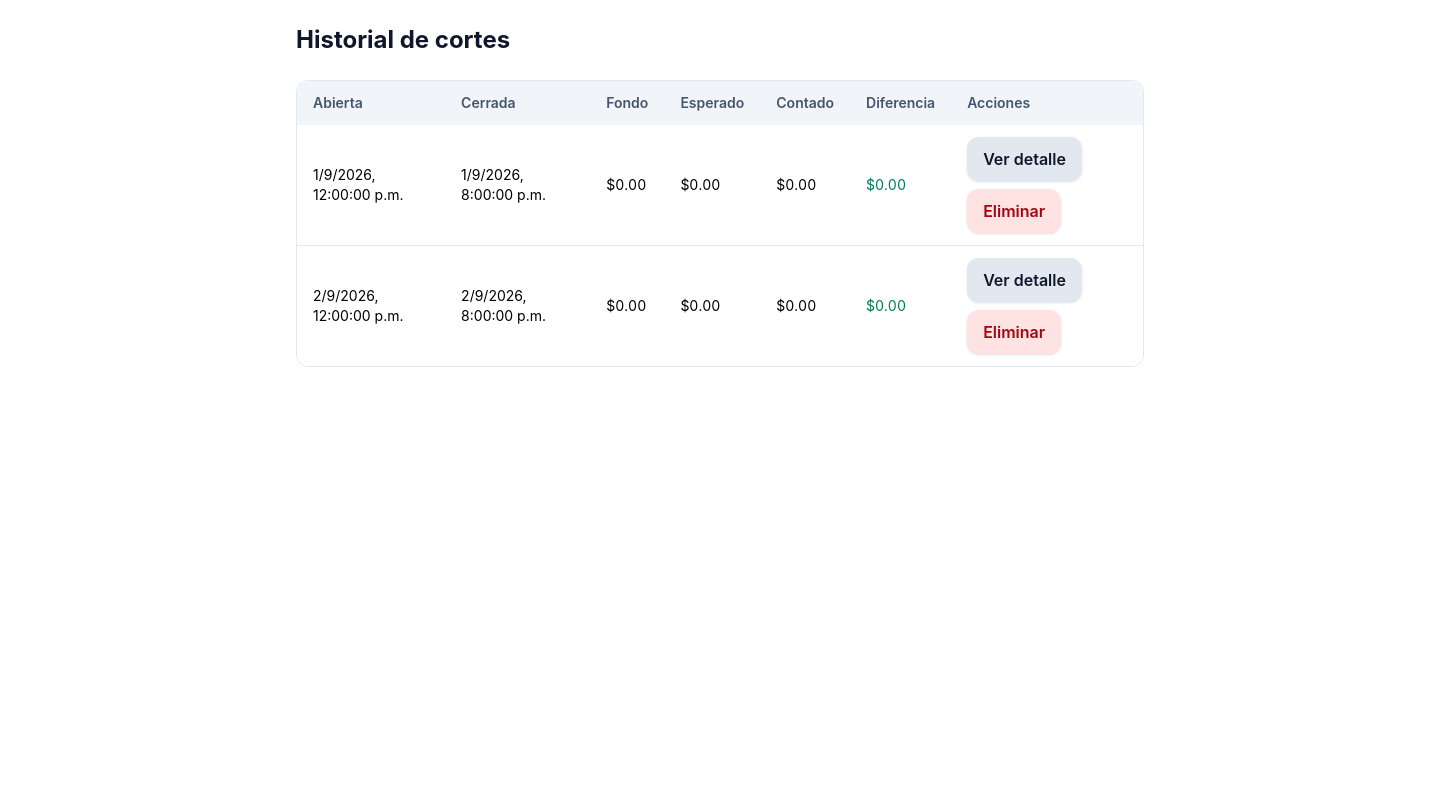
Test: permanent cash history deletion › names the date and consequences; cancellation has no effect
Click the button with aria-label "eliminar corte del" at (1014, 211), box [967,189,1061,233]
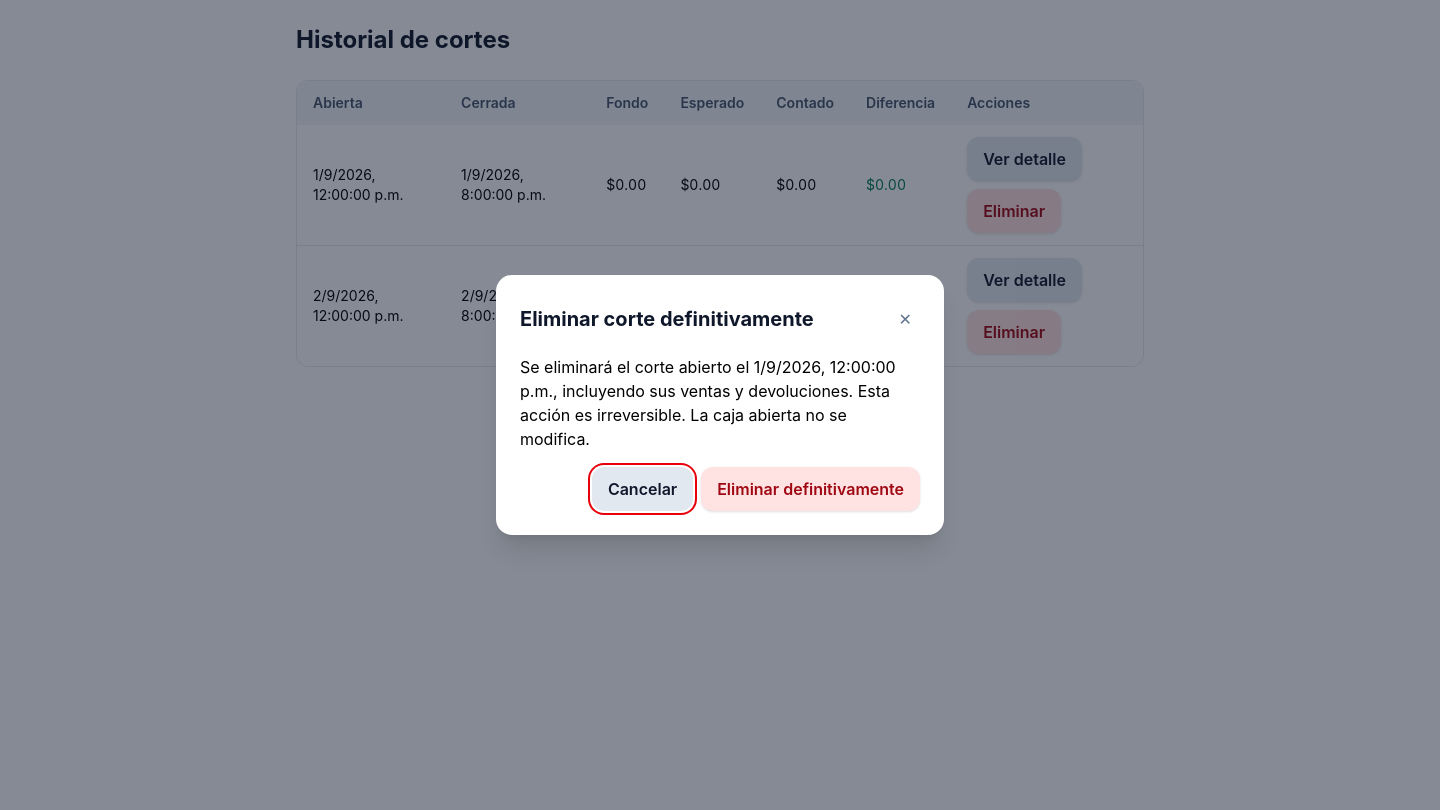
Expected: the dialog shows "irreversible", [520,381,890,449]
Expected: the dialog shows "ventas y devoluciones", [520,381,890,449]
Expected: the dialog shows "caja abierta no se modifica", [520,381,890,449]
Click the button "Cancelar" at (643, 489), box [592,467,693,511]
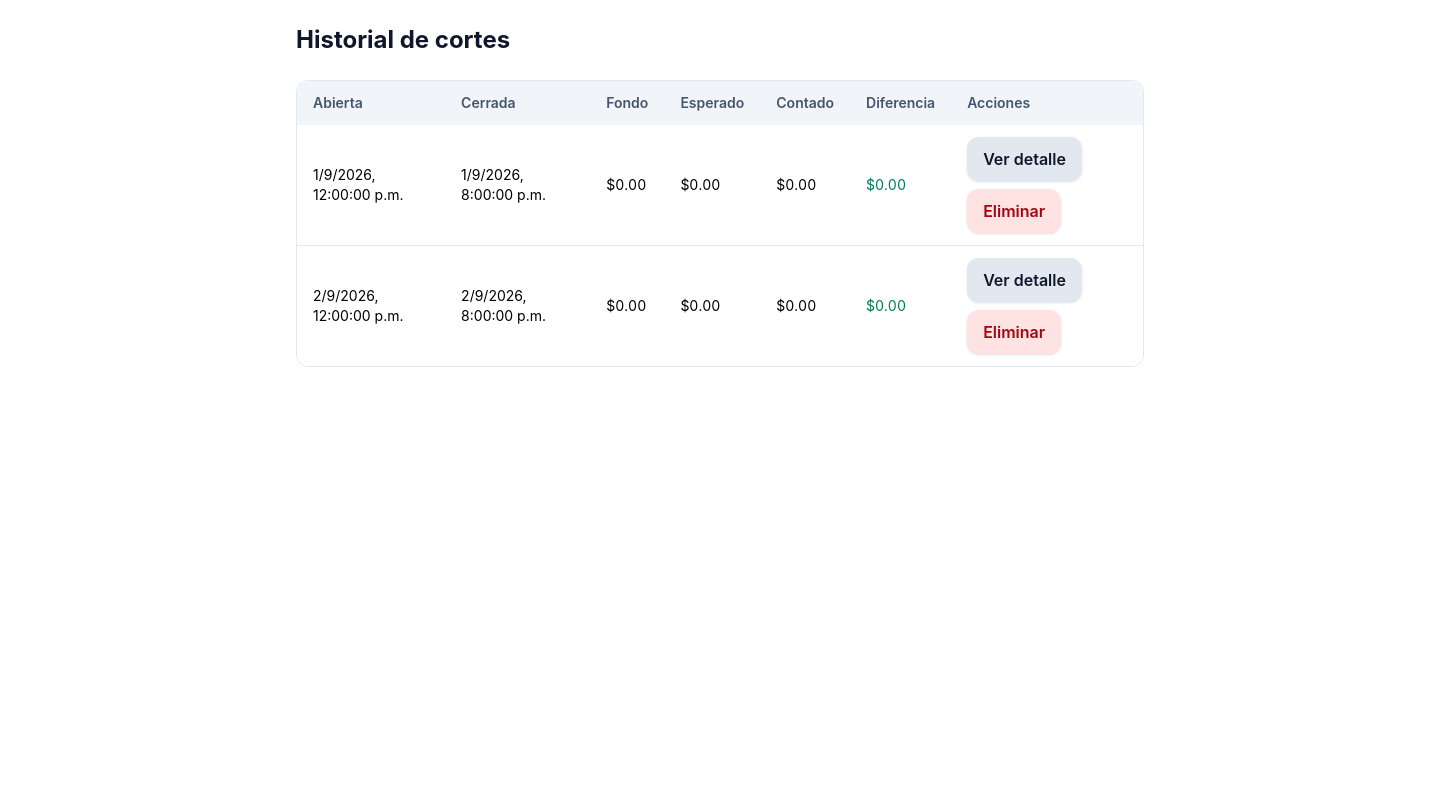
Expected: the dialog is gone
Expected: the number of buttons named "eliminar corte del" is 2, [967,189,1061,233]; [967,310,1061,354]
